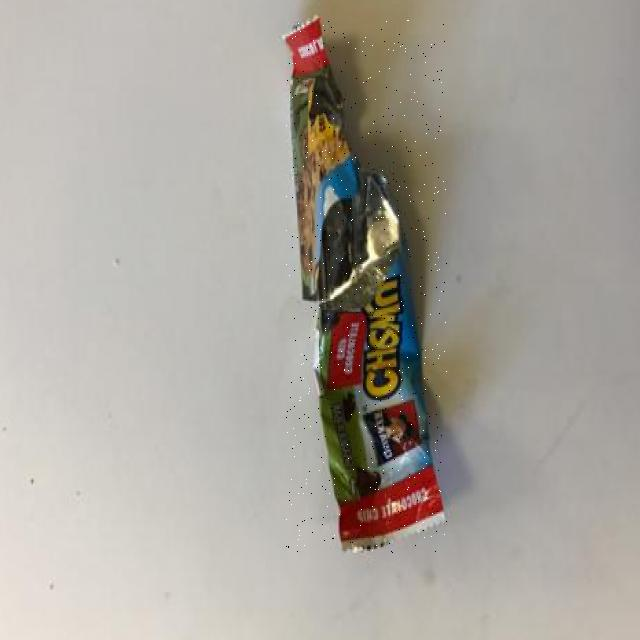wrapper: (287, 20, 447, 552)
